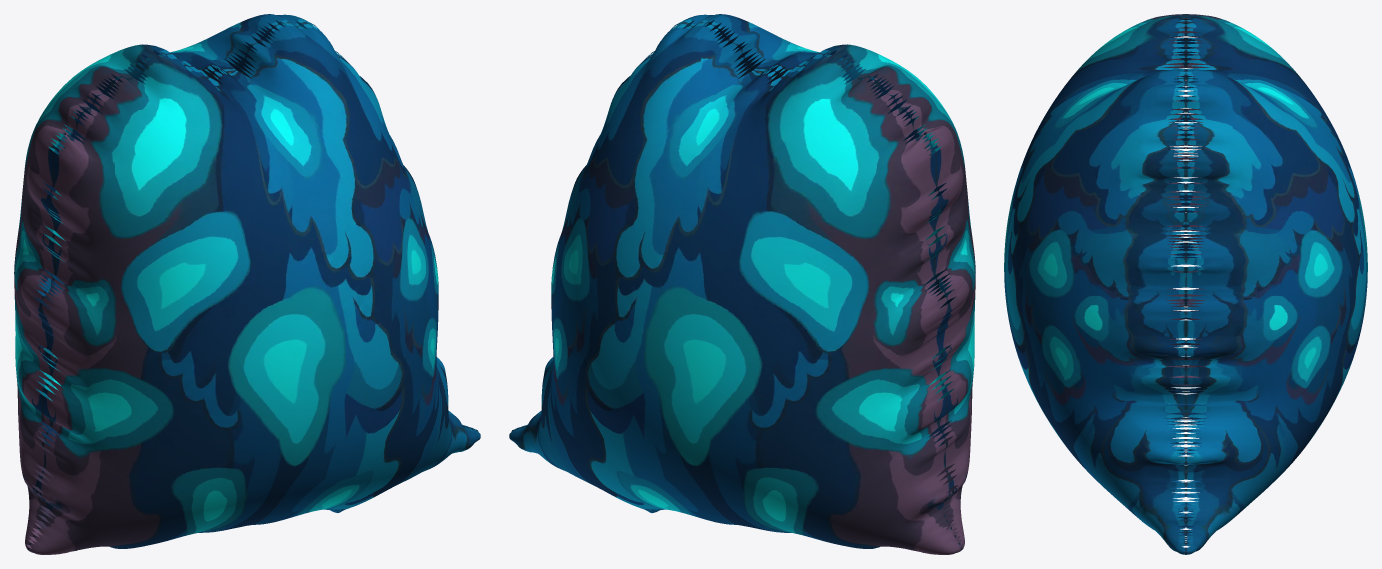
The model's file is cyan_cave_wall.glb.
3 views of the same model, side by side, from view 1: azimuth 30°, elevation 25°; view 2: azimuth 150°, elevation 25°; view 3: azimuth 270°, elevation 25° (orthographic). The views are drawn at different scales.
Parts seen in each view (by area): view 1: cyan_cave_wall; view 2: cyan_cave_wall; view 3: cyan_cave_wall.
Part boxes in pixels (bbox=[...]): cyan_cave_wall: bbox=[14, 14, 480, 554]; cyan_cave_wall: bbox=[509, 14, 975, 554]; cyan_cave_wall: bbox=[1004, 14, 1367, 554].
Bounding box in the file's own units: 0.9879 × 1.01 × 0.7936.
Materials: 1 (1 with a texture image).
